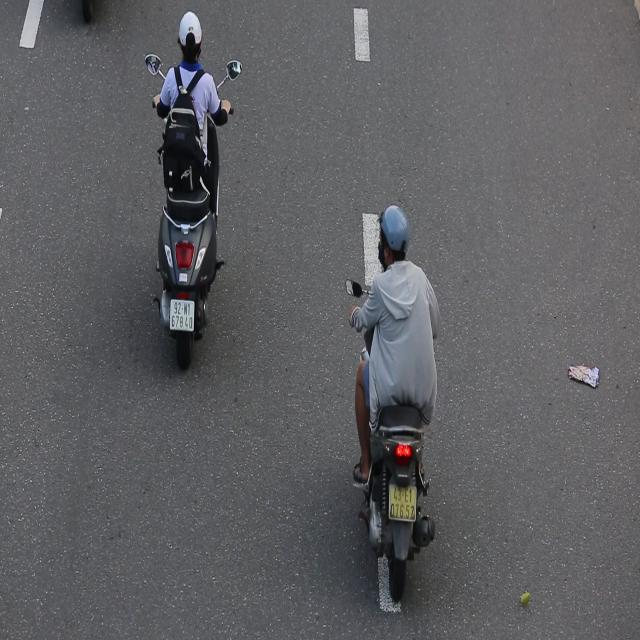motorbike: (137, 8, 246, 394), (342, 194, 442, 614)
